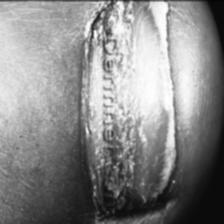Toxin: (90, 0, 174, 215)
